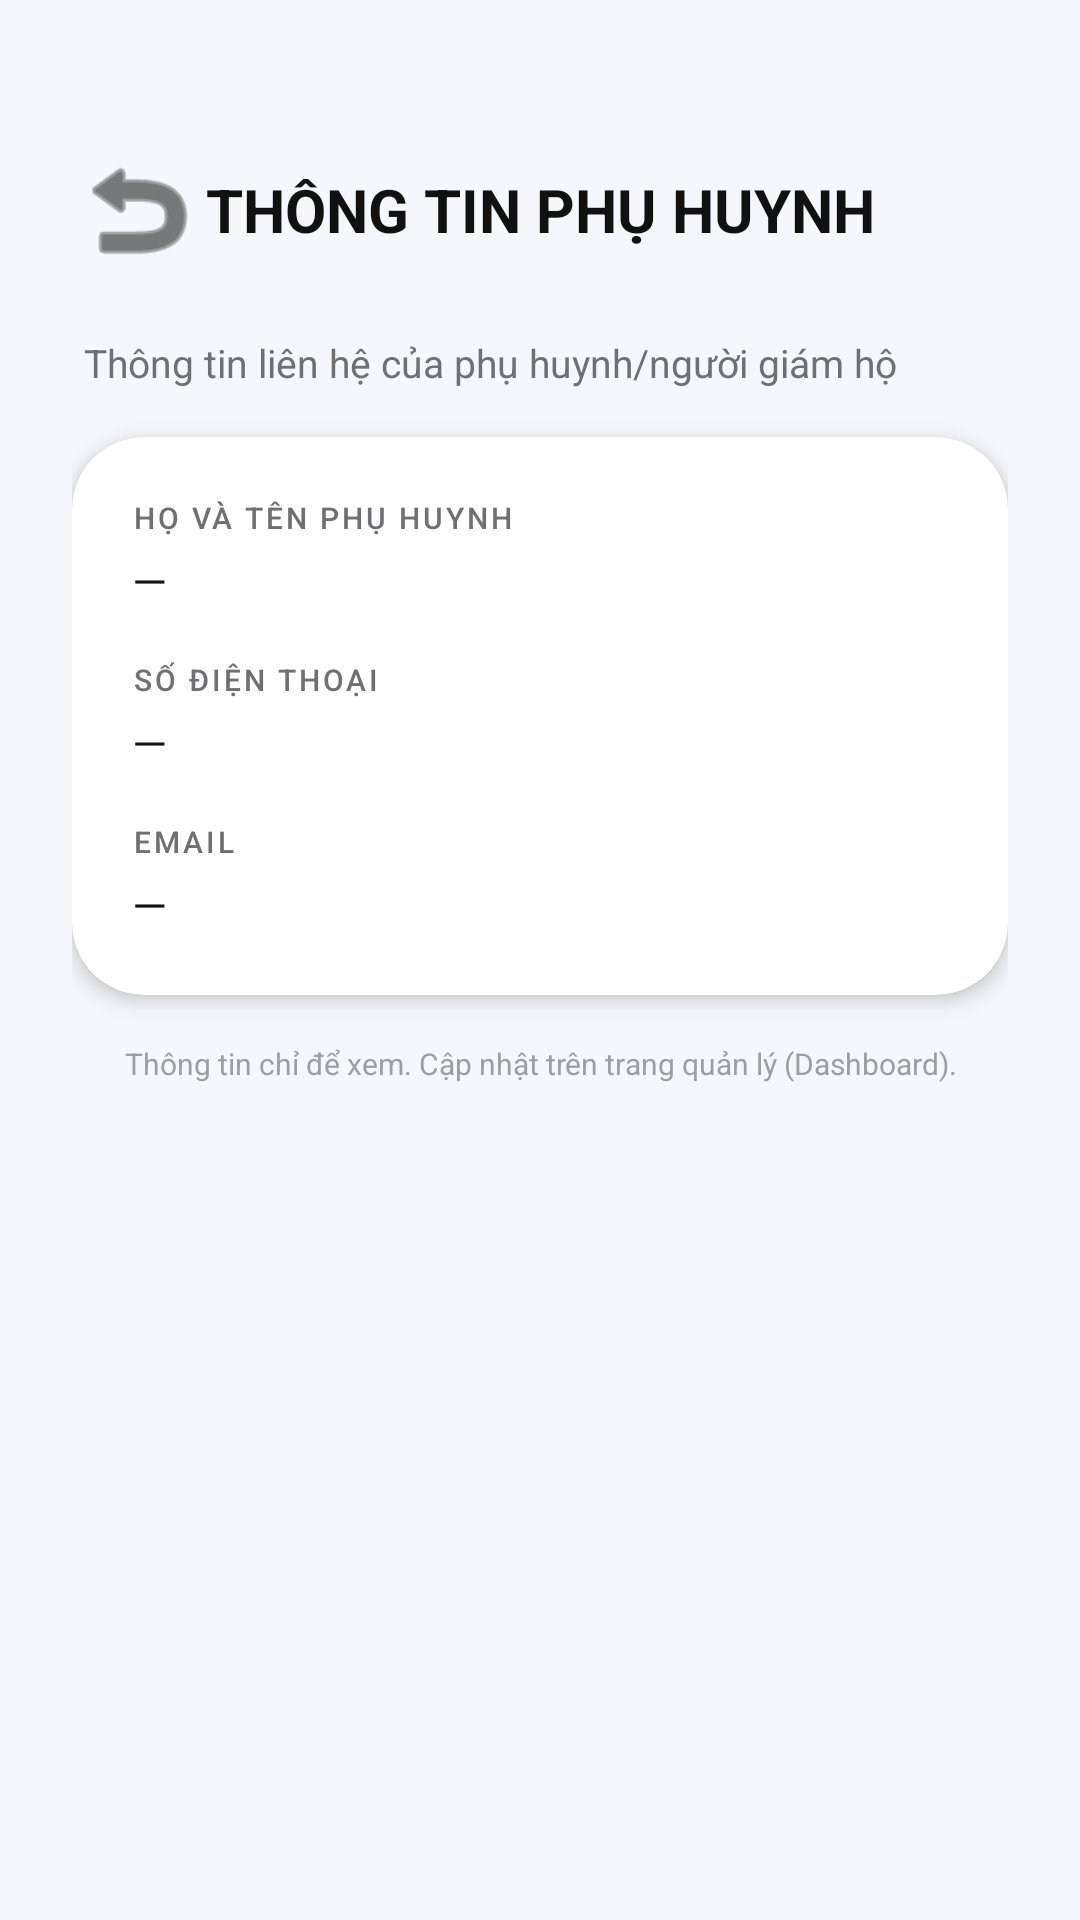

Icon bounding boxes for this 1080 x 1920 phone screenshot, format (x1, y1, x2, y2):
Quay lại: (92, 168, 187, 254)
